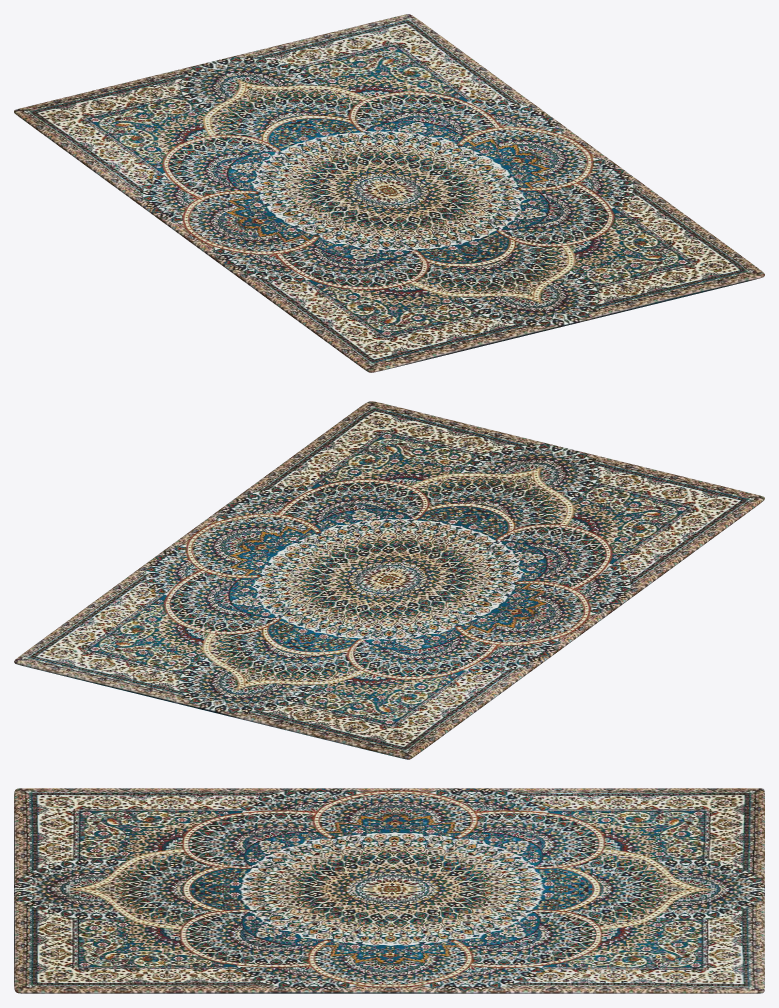
The model's file is blueRug.glb.
3 renders of one model, top to bottom at view 1: azimuth 30°, elevation 25°; view 2: azimuth 150°, elevation 25°; view 3: azimuth 270°, elevation 25°, orthographic. The views are drawn at different scales.
Visible parts, largest first — view 1: Traditional old rug; view 2: Traditional old rug; view 3: Traditional old rug.
Boxes of the visible parts, x1,y1,x2,y2 form: Traditional old rug: [14, 14, 764, 372]; Traditional old rug: [14, 401, 764, 759]; Traditional old rug: [14, 788, 764, 993].
Bounding box in the file's own units: 1.8 × 0.015 × 2.8.
Materials: 1 (1 with a texture image).
